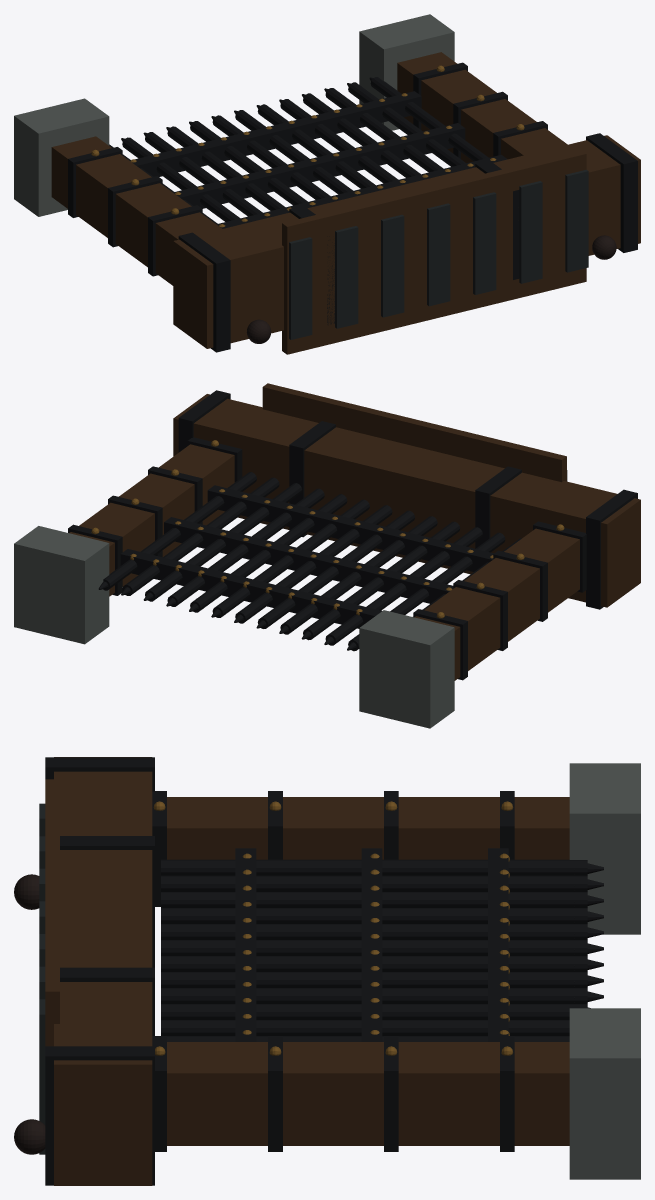
Rendered from SM_VeiledOrderGate_1348.obj.
The picture shows the model from 3 angles, top to bottom: view 1: azimuth 30°, elevation 25°; view 2: azimuth 150°, elevation 25°; view 3: azimuth 270°, elevation 25°; orthographic projection. The views are drawn at different scales.
Parts seen in each view (by area): view 1: ShingleRoof, Oak_Gateposts, SootedShingleRidge, Lintel_EngineeredTimber, Portcullis_Verticals, Portcullis_Crossmembers, Stone_Footings, Outer_Bindings, GatePost_Straps, Hanging_OrderSeals, Portcullis_Bolts; view 2: Lintel_EngineeredTimber, Portcullis_Verticals, Stone_Footings, Oak_Gateposts, Portcullis_Crossmembers, ShingleRoof, GatePost_Straps, Outer_Bindings, Portcullis_Bolts, Spiked_Tips; view 3: Portcullis_Verticals, Oak_Gateposts, Lintel_EngineeredTimber, Stone_Footings, Portcullis_Crossmembers, GatePost_Straps, Outer_Bindings, ShingleRoof, SootedShingleRidge, Hanging_OrderSeals, Portcullis_Bolts, Spiked_Tips (+1 smaller).
Boxes of the visible parts, box(x1,y1,x2,y2) form: ShingleRoof: box(282, 150, 586, 354); Oak_Gateposts: box(51, 52, 567, 285); SootedShingleRidge: box(289, 169, 588, 339); Lintel_EngineeredTimber: box(173, 135, 640, 348); Portcullis_Verticals: box(109, 77, 488, 224); Portcullis_Crossmembers: box(130, 91, 507, 228); Stone_Footings: box(14, 14, 454, 216); Outer_Bindings: box(178, 133, 637, 352); GatePost_Straps: box(68, 62, 547, 276); Hanging_OrderSeals: box(246, 235, 616, 343); Portcullis_Bolts: box(130, 93, 496, 227); Lintel_EngineeredTimber: box(173, 394, 640, 607); Portcullis_Verticals: box(103, 472, 521, 651); Stone_Footings: box(14, 526, 454, 728); Oak_Gateposts: box(69, 444, 579, 680); Portcullis_Crossmembers: box(120, 485, 493, 628); ShingleRoof: box(262, 383, 566, 482); GatePost_Straps: box(68, 437, 586, 680); Outer_Bindings: box(178, 390, 637, 609); Portcullis_Bolts: box(130, 489, 493, 615); Spiked_Tips: box(98, 578, 356, 650); Portcullis_Verticals: box(161, 859, 587, 1041); Oak_Gateposts: box(167, 797, 569, 1145); Lintel_EngineeredTimber: box(54, 757, 152, 1185); Stone_Footings: box(569, 763, 640, 1179); Portcullis_Crossmembers: box(235, 848, 508, 1041); GatePost_Straps: box(152, 791, 514, 1151); Outer_Bindings: box(45, 757, 154, 1185); ShingleRoof: box(45, 779, 59, 1046); SootedShingleRidge: box(39, 803, 45, 1154); Hanging_OrderSeals: box(14, 874, 45, 1154); Portcullis_Bolts: box(242, 853, 509, 1035); Spiked_Tips: box(574, 863, 603, 1008).
Bounding box in the file's own units: 490 × 138 × 422.
